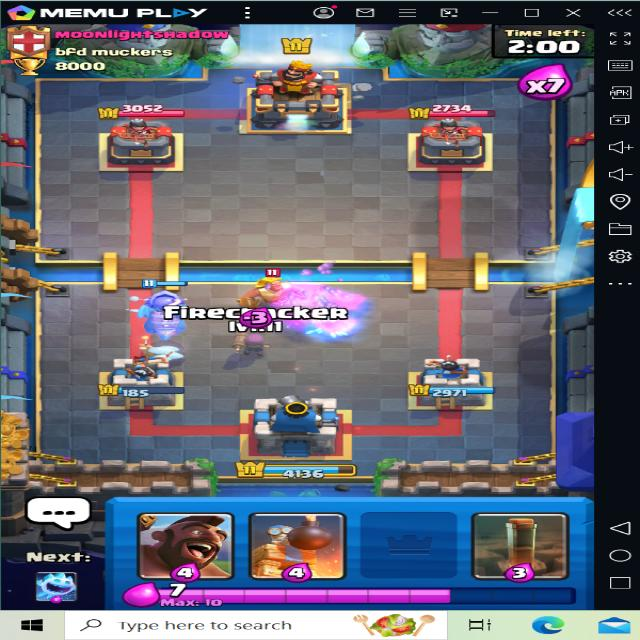golden-knight: (227, 262, 321, 316)
